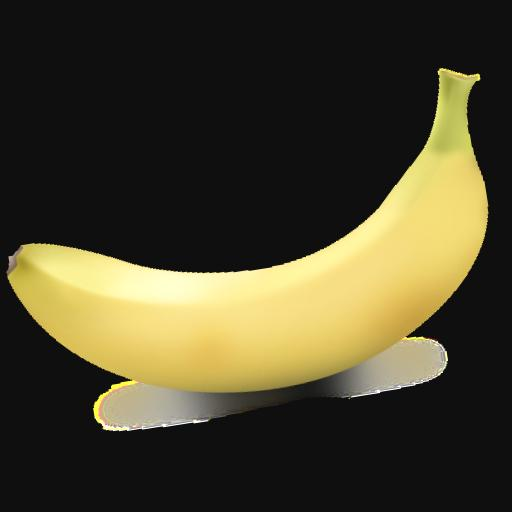Banana Ripe: (0, 129, 512, 425)
